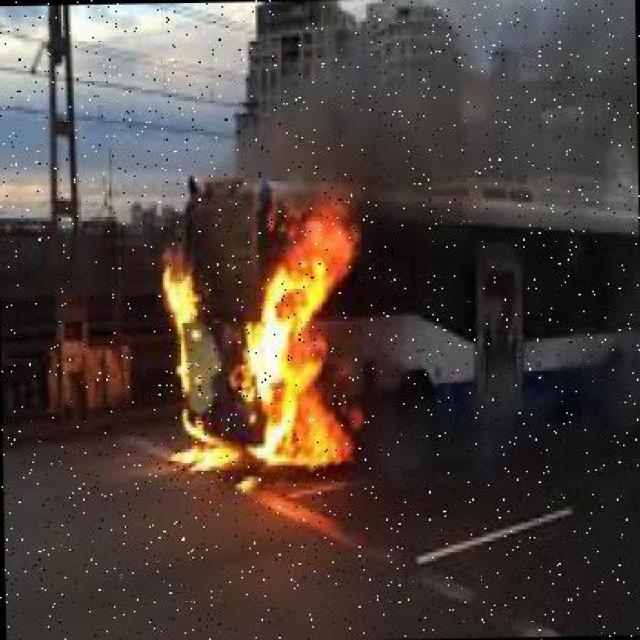fire: (148, 186, 368, 482)
